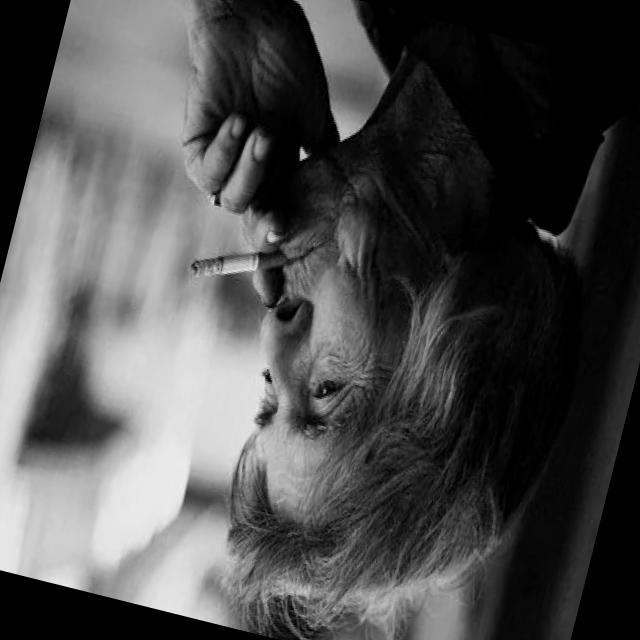smoke: (183, 222, 293, 304)
